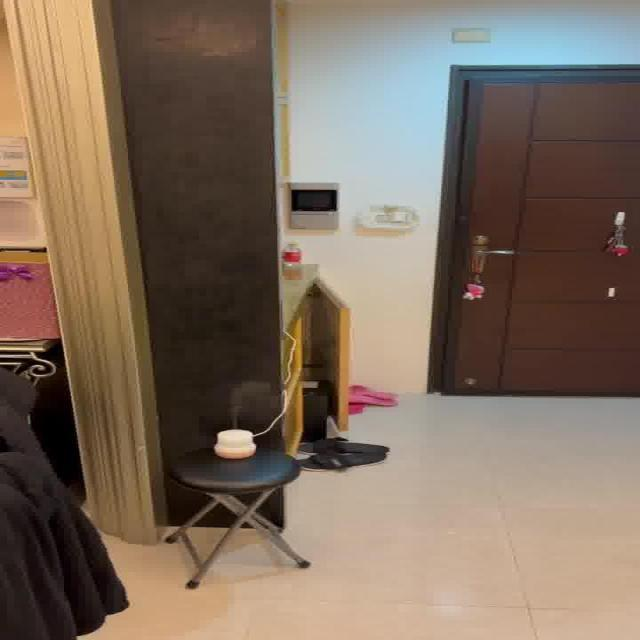fire: (223, 378, 267, 420)
